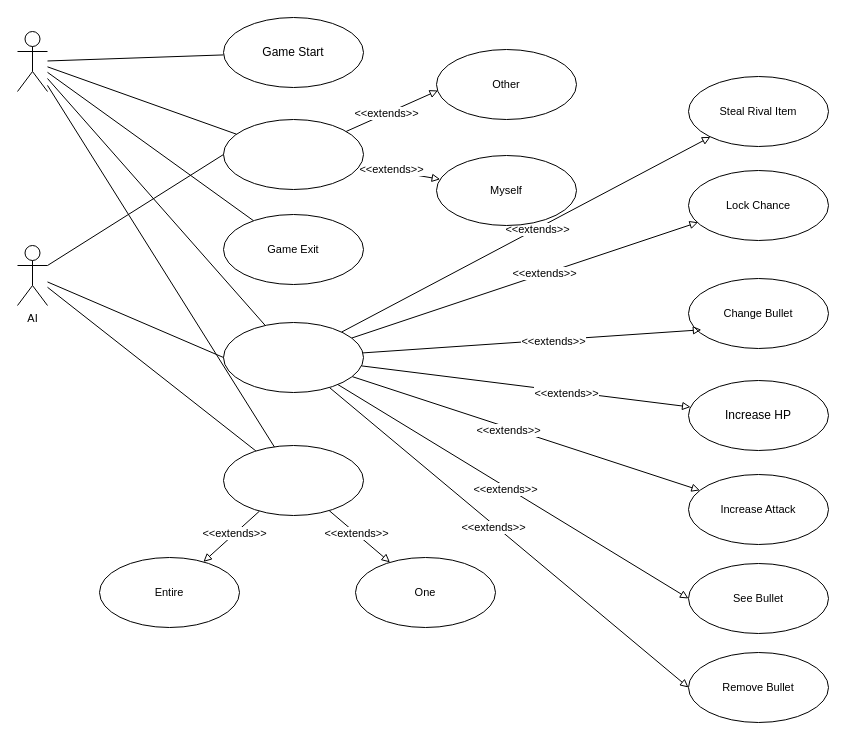
Image size: 846x740. Some labels were removed from this diagram. Here are the shapes that lost their labels. From the top down, the centre of each, then its label:
pixel 32 61: User
pixel 293 154: Shoot a shotgun
pixel 293 357: Use Item
pixel 293 480: Check Bullet Number
